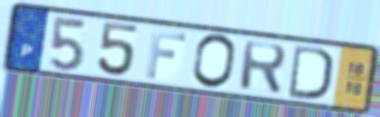5: (46, 14, 91, 74), (97, 21, 141, 78)
D: (287, 43, 335, 102)
F: (143, 27, 189, 81)
O: (189, 32, 238, 91)
R: (237, 39, 289, 97)
